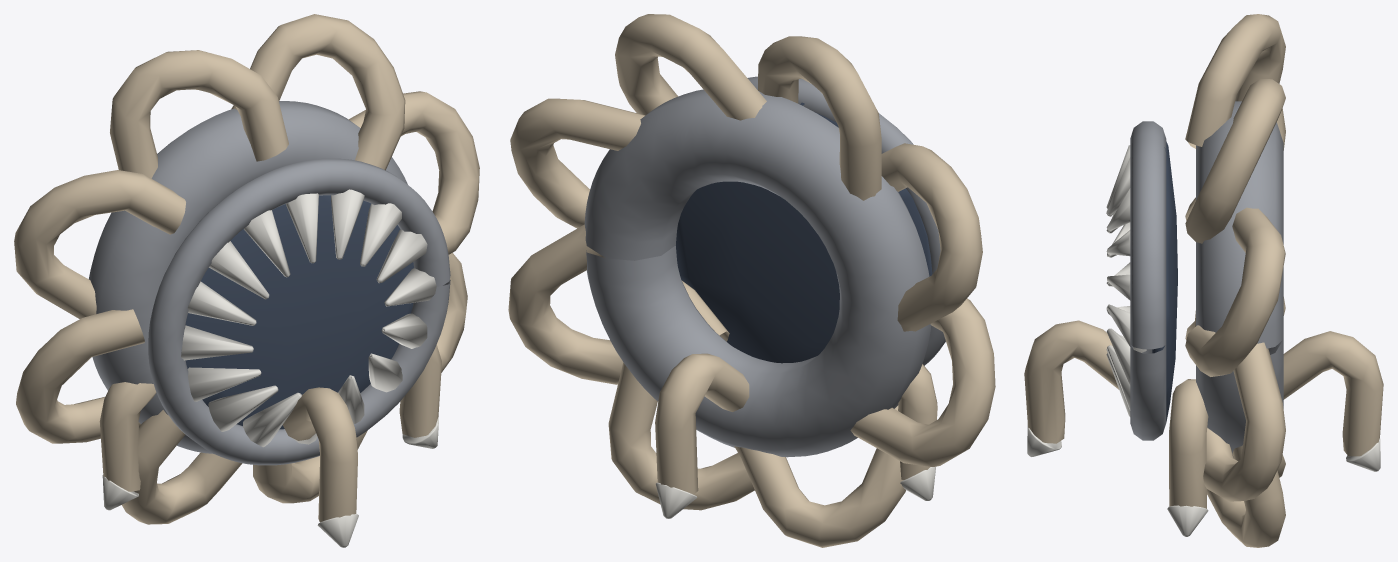
The model's file is bio_spiral_maw_08_far.glb.
3 renders of one model, left to right at view 1: azimuth 30°, elevation 25°; view 2: azimuth 150°, elevation 25°; view 3: azimuth 270°, elevation 25°, orthographic. The views are drawn at different scales.
Parts seen in each view (by area): view 1: Recessed mouth cavity, Raised oral lip, Rear muscular torus, Inward tooth, Coiling oral limb.002, Coiling oral limb.003, Coiling oral limb.001, Coiling oral limb.004, Coiling oral limb, Coiling oral limb.005, Crooked support.002, Crooked support.001 (+5 smaller); view 2: Rear muscular torus, Recessed mouth cavity, Coiling oral limb.004, Coiling oral limb.003, Coiling oral limb.002, Coiling oral limb.001, Coiling oral limb, Coiling oral limb.005, Coiling oral limb.007, Crooked support, Coiling oral limb.006, Raised oral lip (+4 smaller); view 3: Rear muscular torus, Raised oral lip, Coiling oral limb, Coiling oral limb.007, Coiling oral limb.001, Coiling oral limb.002, Crooked support, Crooked support.002, Crooked support.003, Inward tooth, Coiling oral limb.006, Recessed mouth cavity (+3 smaller).
Part boxes in pixels (bbox=[...]): Recessed mouth cavity: bbox=[185, 195, 413, 429]; Raised oral lip: bbox=[148, 158, 450, 465]; Rear muscular torus: bbox=[89, 101, 407, 453]; Inward tooth: bbox=[181, 189, 436, 447]; Coiling oral limb.002: bbox=[110, 50, 288, 178]; Coiling oral limb.003: bbox=[14, 170, 185, 318]; Coiling oral limb.001: bbox=[231, 14, 405, 170]; Coiling oral limb.004: bbox=[16, 309, 144, 443]; Coiling oral limb: bbox=[348, 91, 479, 254]; Coiling oral limb.005: bbox=[122, 410, 242, 524]; Crooked support.002: bbox=[283, 387, 357, 522]; Crooked support.001: bbox=[99, 382, 156, 491]; Rear muscular torus: bbox=[584, 89, 931, 457]; Recessed mouth cavity: bbox=[675, 102, 932, 363]; Coiling oral limb.004: bbox=[850, 298, 995, 466]; Coiling oral limb.003: bbox=[881, 143, 982, 331]; Coiling oral limb.002: bbox=[758, 36, 881, 200]; Coiling oral limb.001: bbox=[615, 14, 766, 120]; Coiling oral limb: bbox=[510, 98, 645, 228]; Coiling oral limb.005: bbox=[734, 405, 905, 547]; Coiling oral limb.007: bbox=[508, 224, 623, 384]; Crooked support: bbox=[655, 353, 749, 494]; Coiling oral limb.006: bbox=[608, 362, 754, 510]; Raised oral lip: bbox=[747, 76, 945, 365]; Rear muscular torus: bbox=[1196, 101, 1283, 453]; Raised oral lip: bbox=[1130, 121, 1166, 440]; Coiling oral limb: bbox=[1185, 207, 1285, 376]; Coiling oral limb.007: bbox=[1203, 342, 1285, 501]; Coiling oral limb.001: bbox=[1185, 78, 1285, 243]; Coiling oral limb.002: bbox=[1185, 14, 1285, 146]; Crooked support: bbox=[1283, 331, 1383, 456]; Crooked support.002: bbox=[1024, 320, 1118, 443]; Crooked support.003: bbox=[1169, 379, 1208, 508]; Inward tooth: bbox=[1106, 145, 1146, 416]; Coiling oral limb.006: bbox=[1207, 445, 1285, 547]; Recessed mouth cavity: bbox=[1152, 141, 1177, 421].
Bounding box in the file's own units: 2.56 × 2.56 × 1.81.
